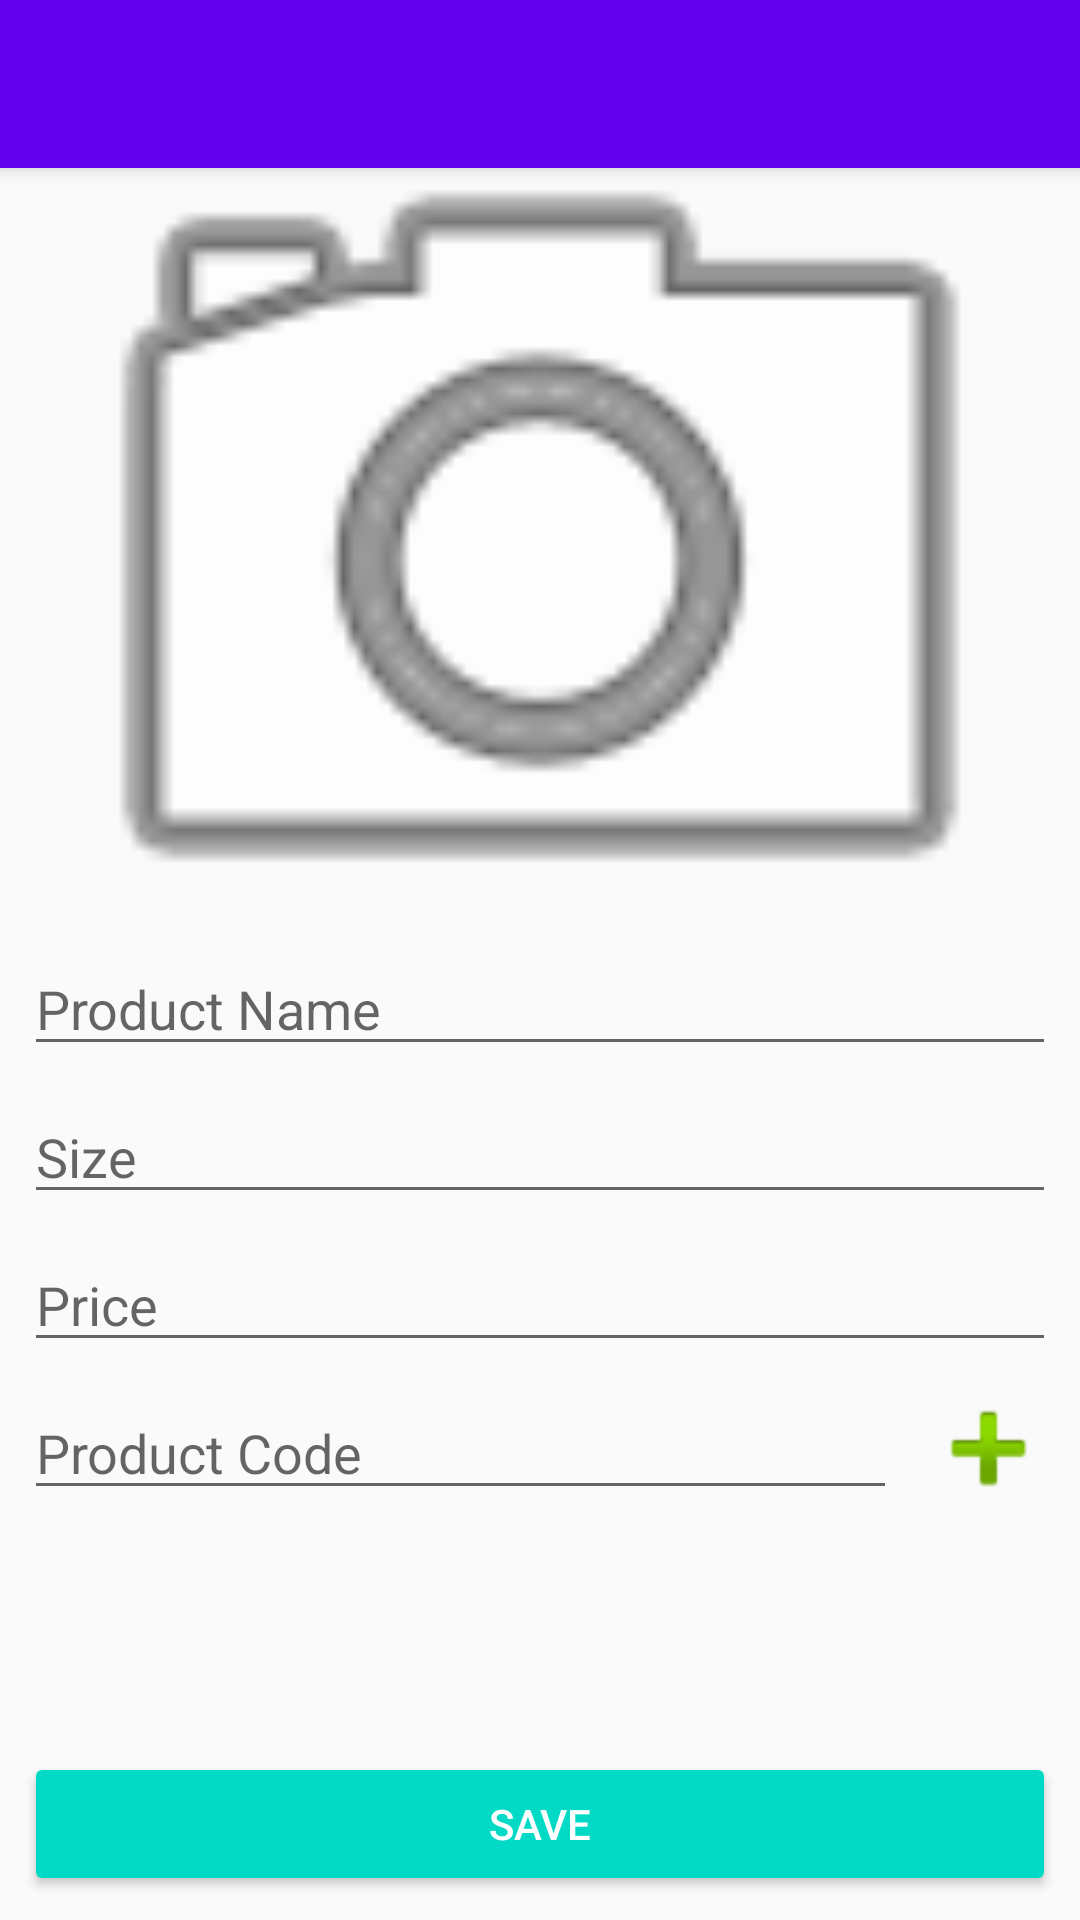

Icons on this 1080×1920 Android screen, each with its box as (x1, y1, x2, y2):
add: (950, 1410, 1027, 1487)
